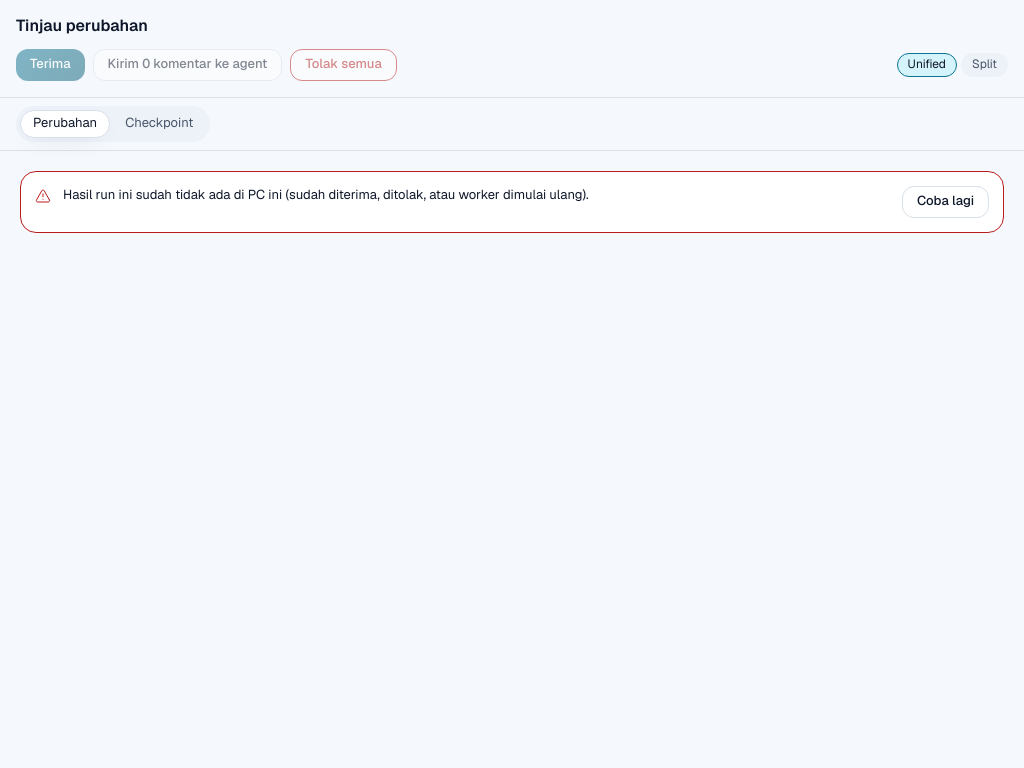
Scenario: Tinjau perubahan: tampilan › galat membaca diff: pesan dari kode galat worker dan tombol coba lagi
The image size is (1024, 768).
Check: the text "Hasil run ini sudah tidak ada di PC ini (sudah diterima, ditolak, atau worker dimulai ulang)." is shown, box x1=63 y1=186 x2=589 y2=203
Click the button "Coba lagi". click: (945, 202)
box: x1=902 y1=186 x2=989 y2=218
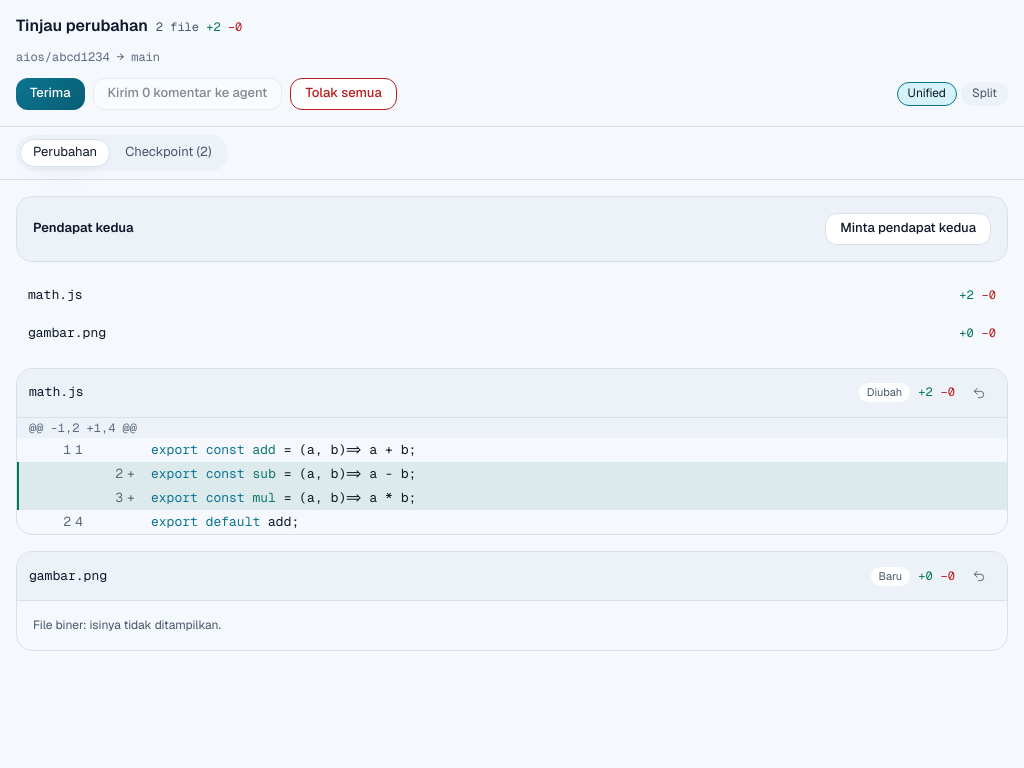
Check: the element "math.js" is shown, box x1=16 y1=368 x2=1008 y2=535
